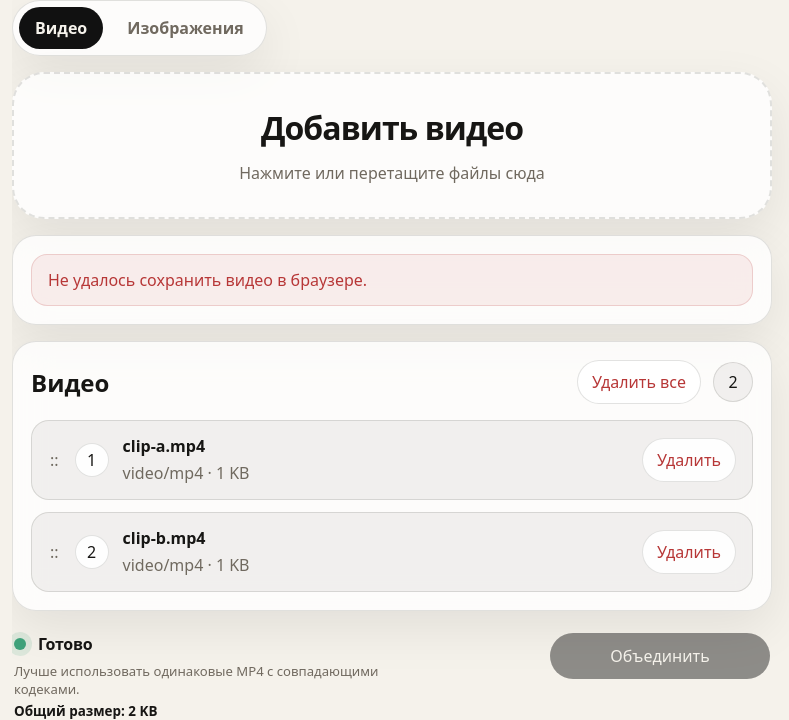
EditorWorkspace › preserves the video-side status when returning from the image tab
This screenshot has width=789, height=720.
Click the button "Изображения". click: coordinates (186, 28)
box: [111,7,260,49]
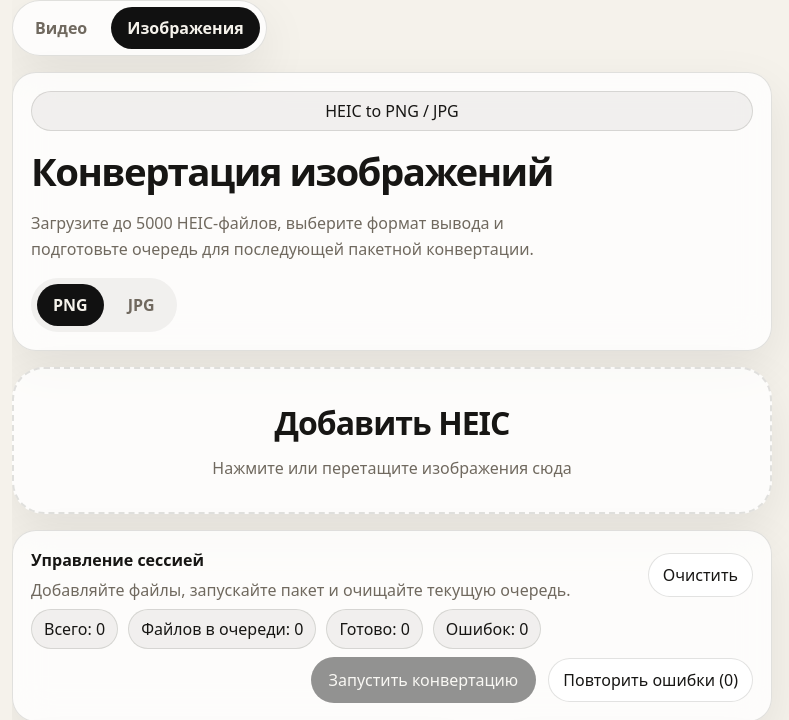
Result: the heading "Конвертация изображений" is shown at [31,145,553,197]
Click the button "Видео". click: coordinates (61, 28)
box: [19,7,103,49]
(page scrolled)
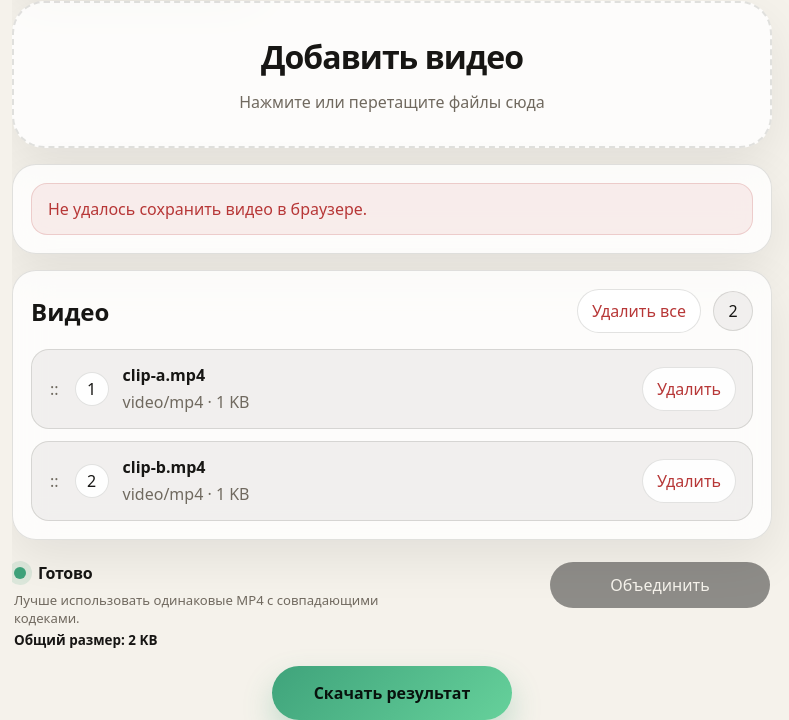
Result: the text "Не удалось сохранить видео в браузере." is shown at [31,183,753,235]
